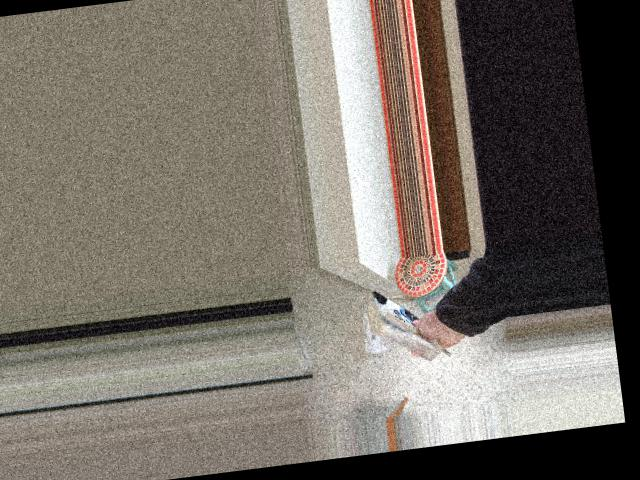cheese: (349, 269, 466, 378)
